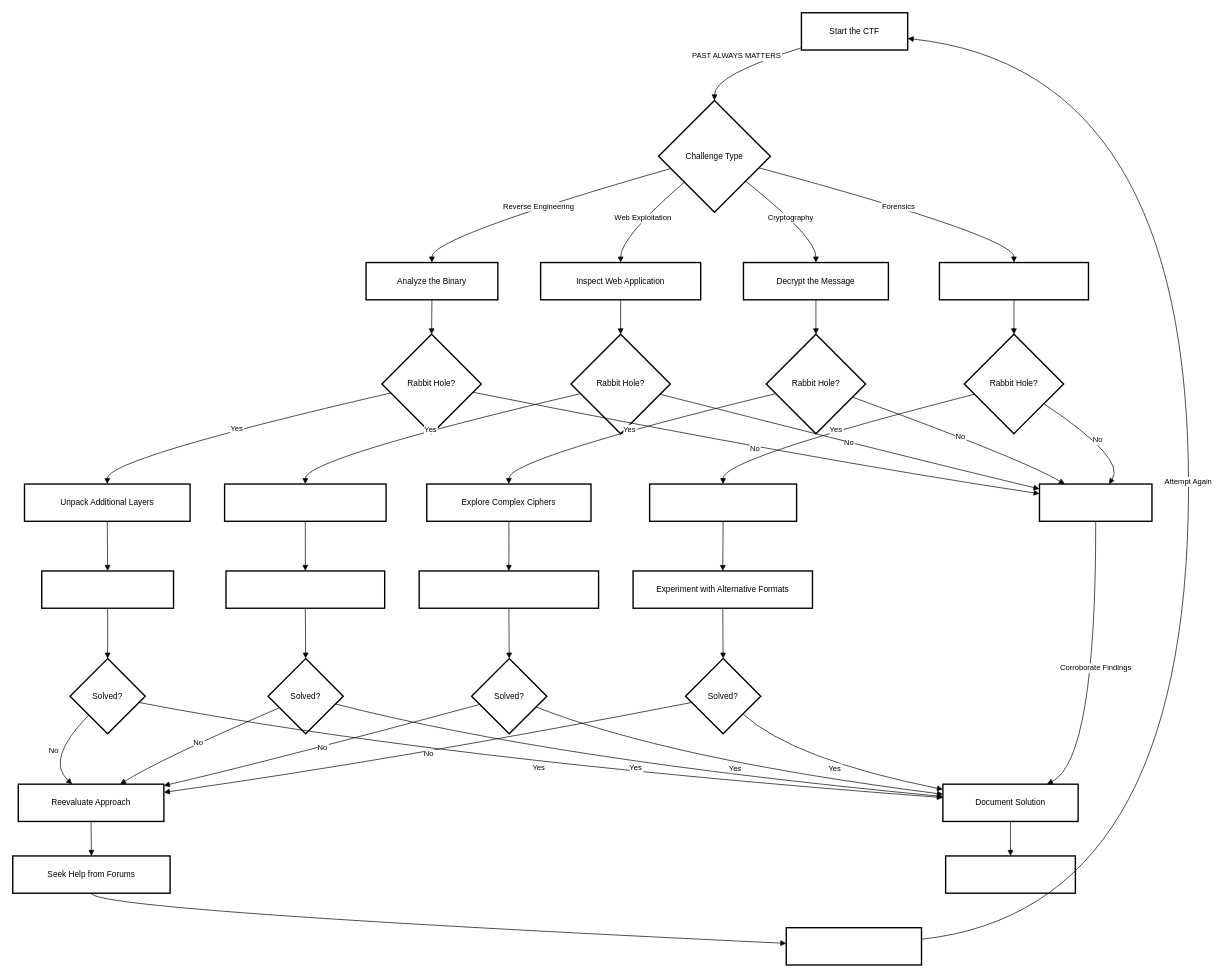
The diagram is 1224 pixels wide and 977 high, and some of its shapes have lost their labels. Here are the shapes that lost their labels. From the top down, the centre of each, then its label:
At point (1013, 281): "Examine File Artifacts".
At point (305, 502): "Follow Misleading Paths".
At point (723, 502): "Discover Hidden Data".
At point (1095, 502): "Verify Solution".
At point (107, 589): "Try Different Tools".
At point (305, 589): "Check Unusual Patterns".
At point (508, 589): "Use Various Cryptographic Keys".
At point (1010, 874): "Complete the CTF".
At point (853, 946): "Apply New Insights".
